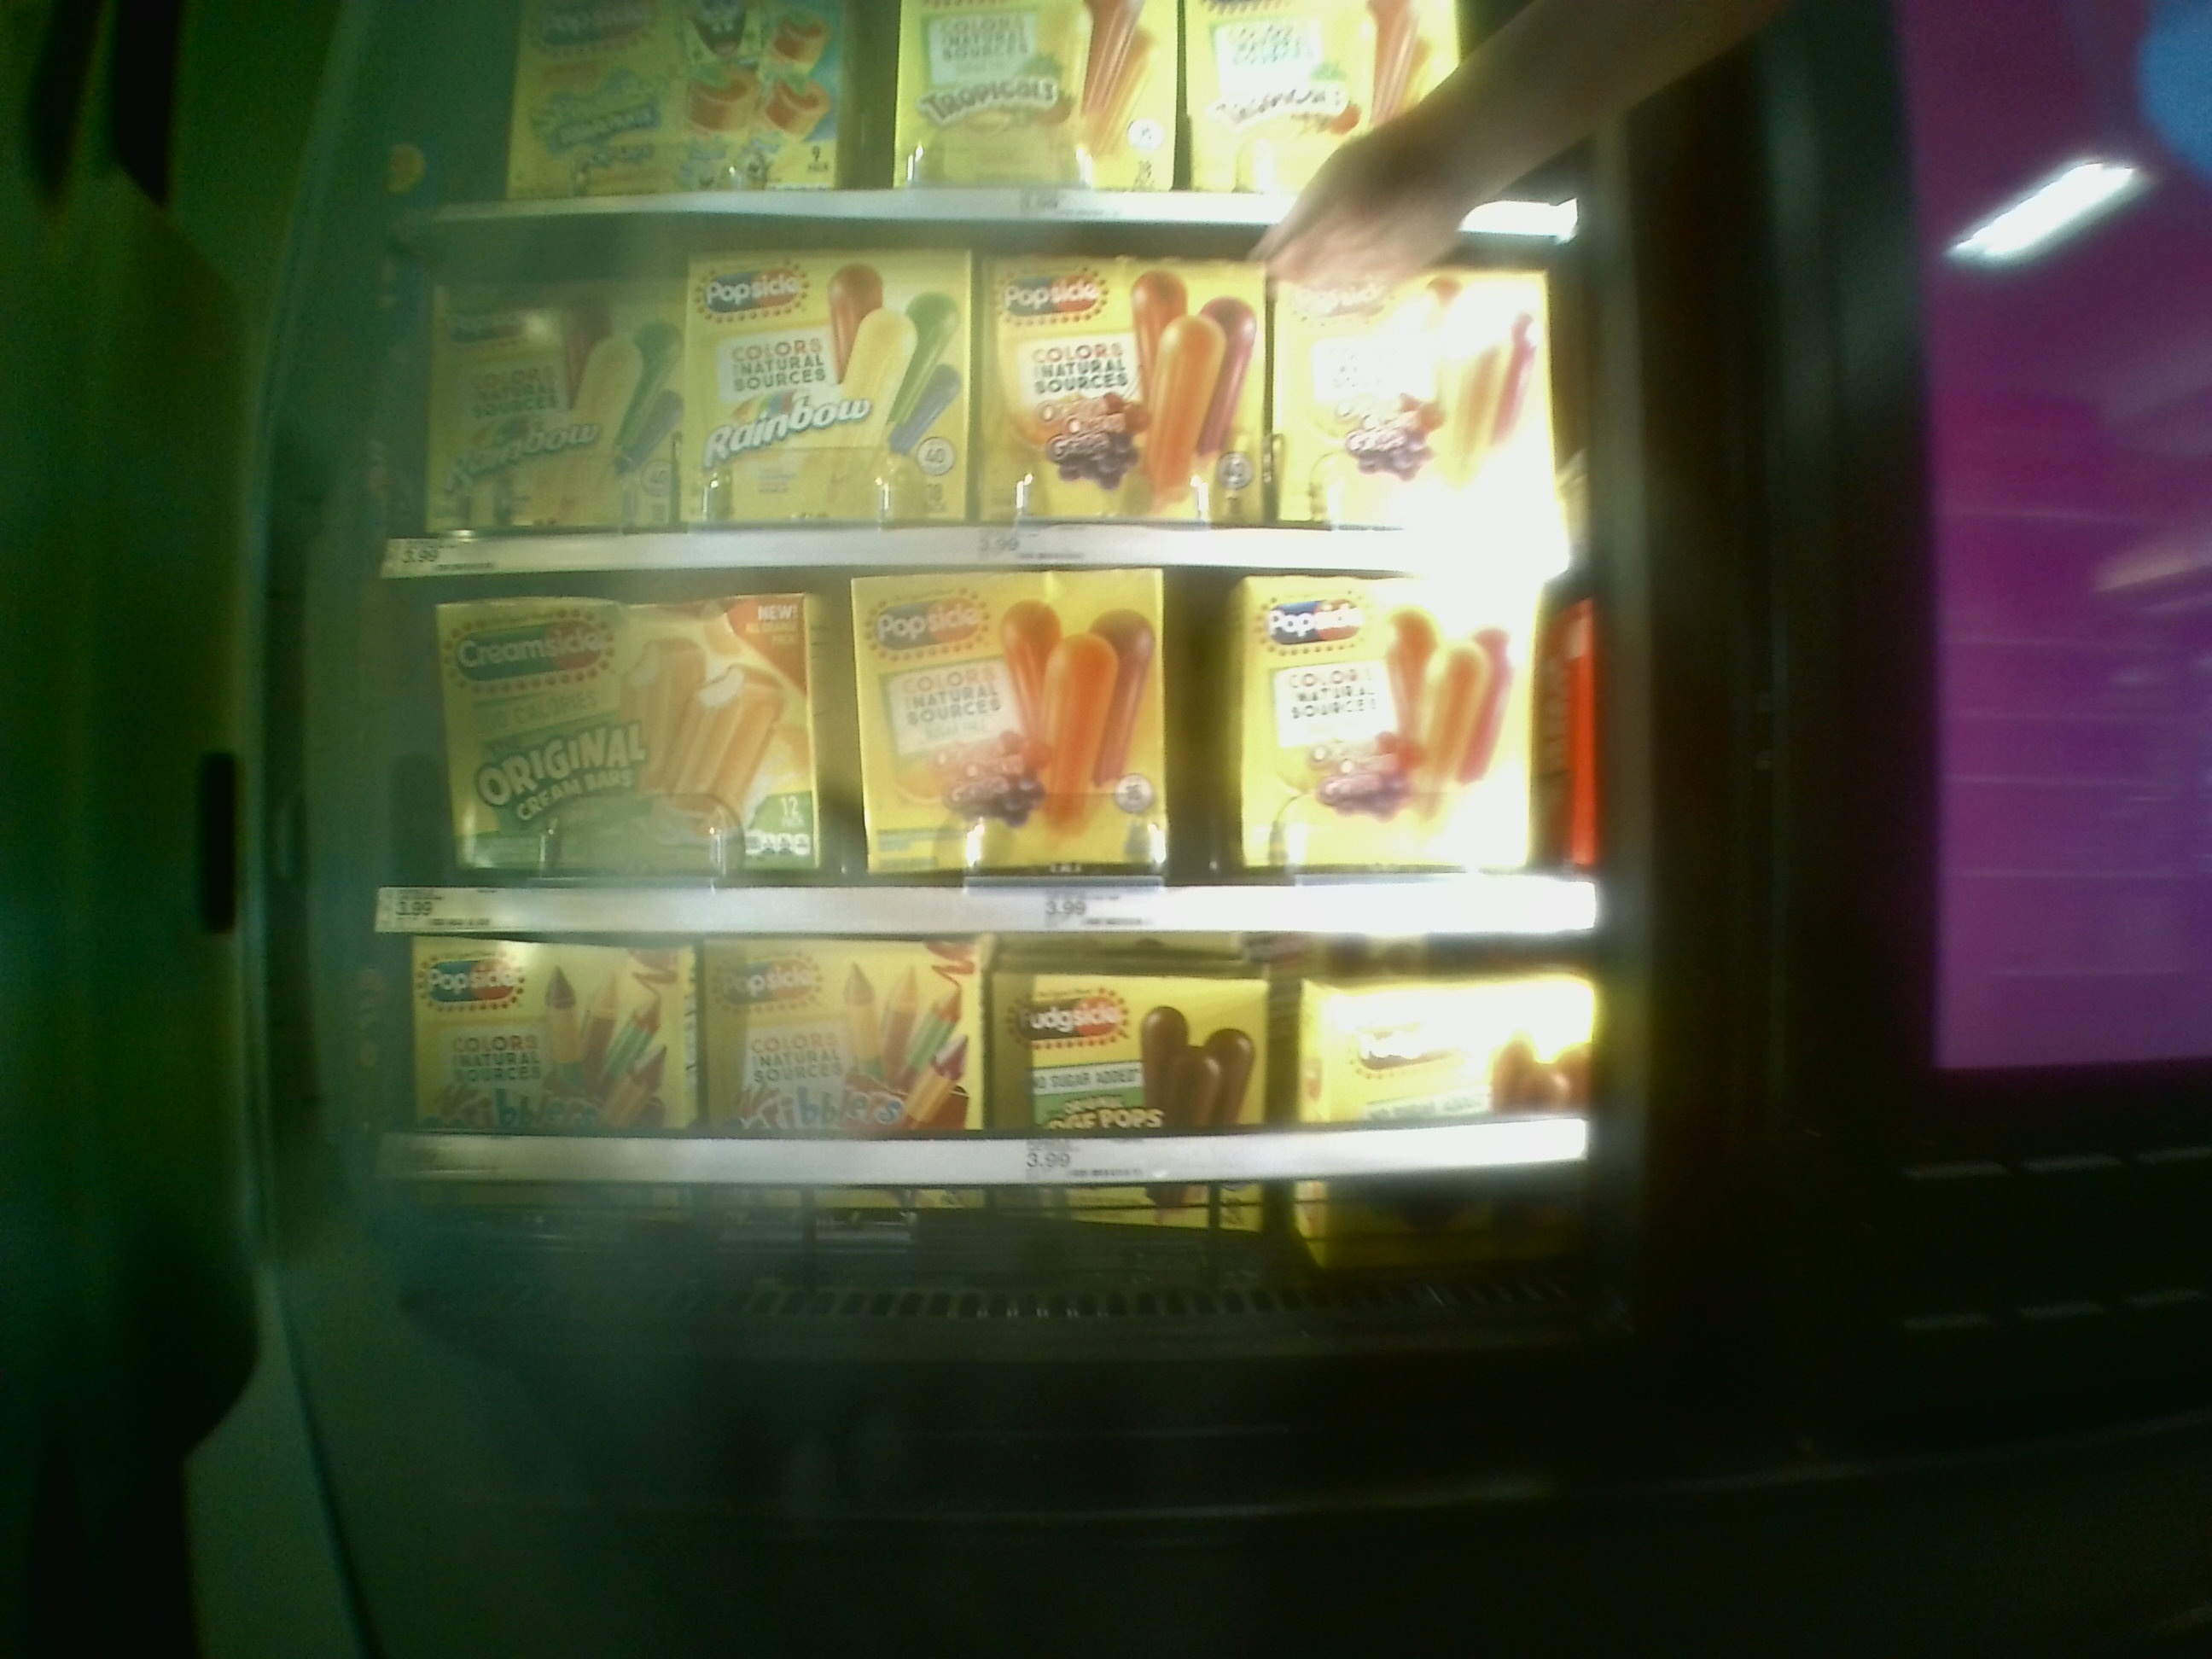shelf: (381, 556, 1595, 938)
